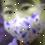with_mask: (1, 2, 45, 45)
